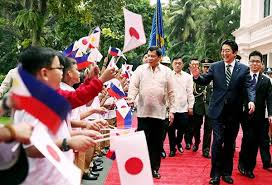Japanese Flag: (20, 115, 88, 185), (109, 129, 158, 185), (117, 7, 148, 58), (76, 34, 92, 50), (115, 97, 130, 112), (120, 63, 135, 72)
